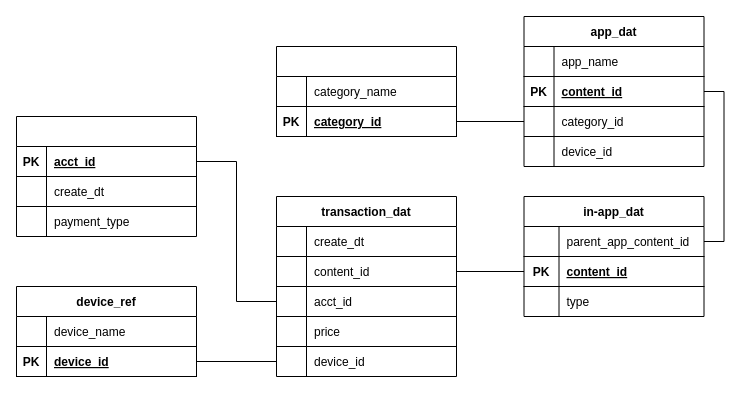
Image size: 740x393. Some labels were removed from this diagram. Each missing label, with the box of its shape:
account_dat: (16, 116, 196, 236)
category_ref: (276, 46, 456, 136)
